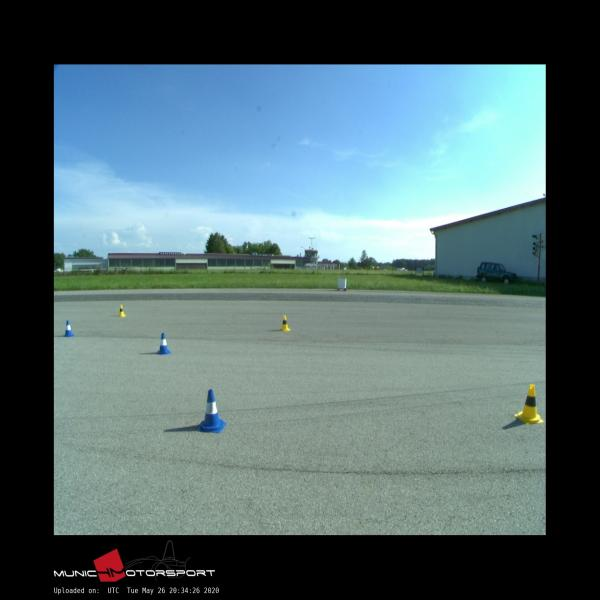blue_cone: (196, 389, 226, 433), (155, 334, 171, 354), (62, 320, 74, 336)
yellow_cone: (514, 384, 544, 424), (280, 316, 290, 330), (118, 305, 126, 316)
